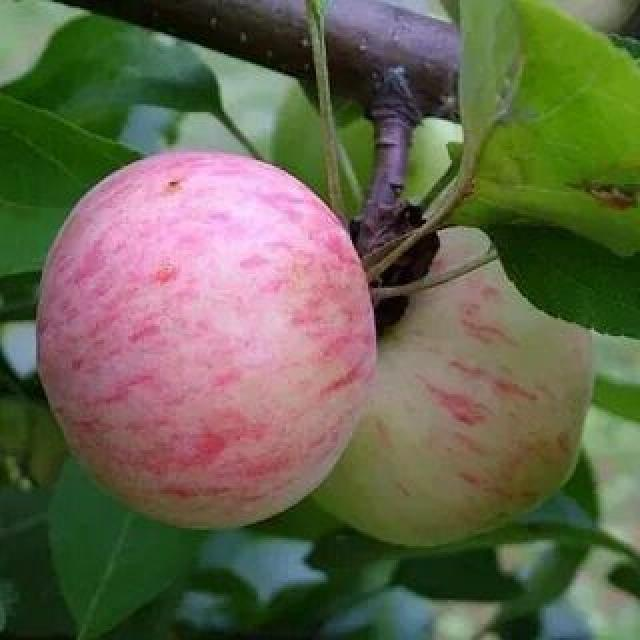Fresh Apple: (44, 163, 378, 525)
